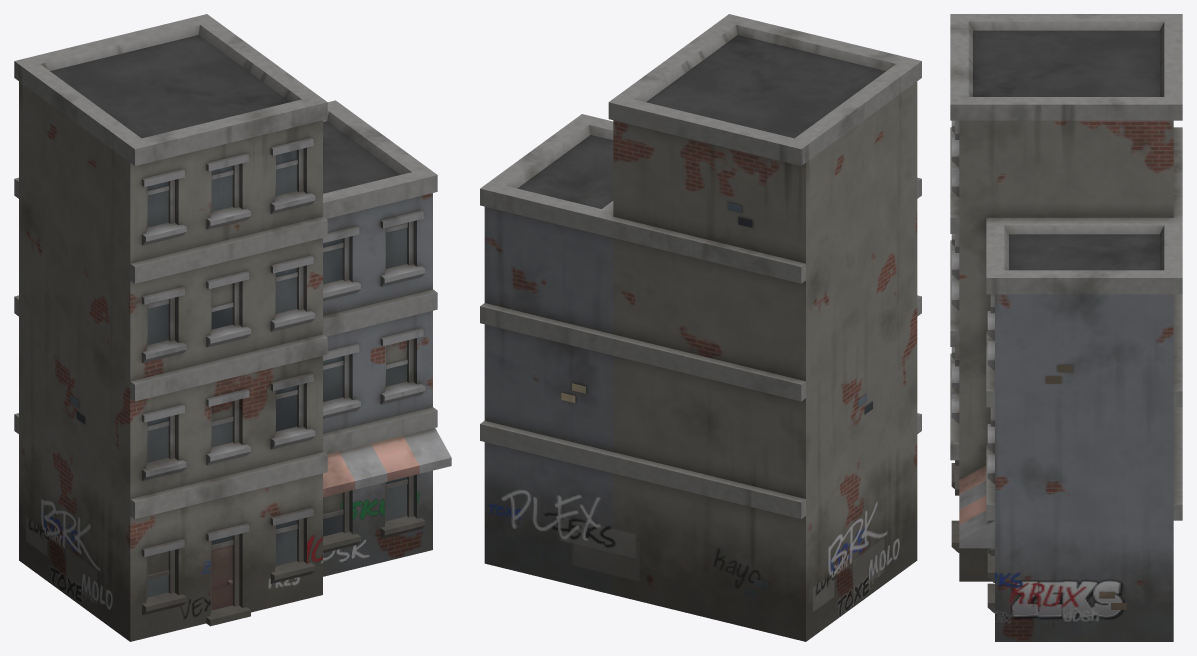
The model's file is building_H.glb.
3 renders of one model, left to right at view 1: azimuth 30°, elevation 25°; view 2: azimuth 150°, elevation 25°; view 3: azimuth 270°, elevation 25°, orthographic. The views are drawn at different scales.
Visible parts, largest first — view 1: building_H_withoutBase; view 2: building_H_withoutBase; view 3: building_H_withoutBase.
Boxes of the visible parts, x1,y1,x2,y2 form: building_H_withoutBase: (14, 14, 451, 641); building_H_withoutBase: (480, 14, 921, 641); building_H_withoutBase: (950, 14, 1182, 641).
Bounding box in the file's own units: 2.01 × 2.95 × 1.3.
Materials: 2 (2 with a texture image).
